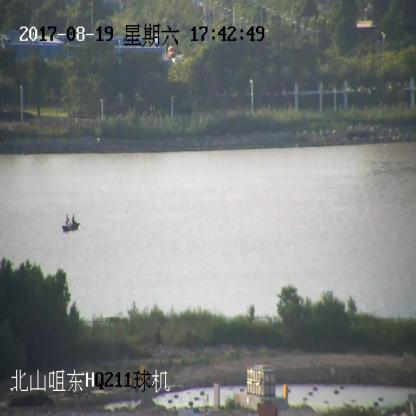Fishing Boat: (63, 215, 79, 231)
